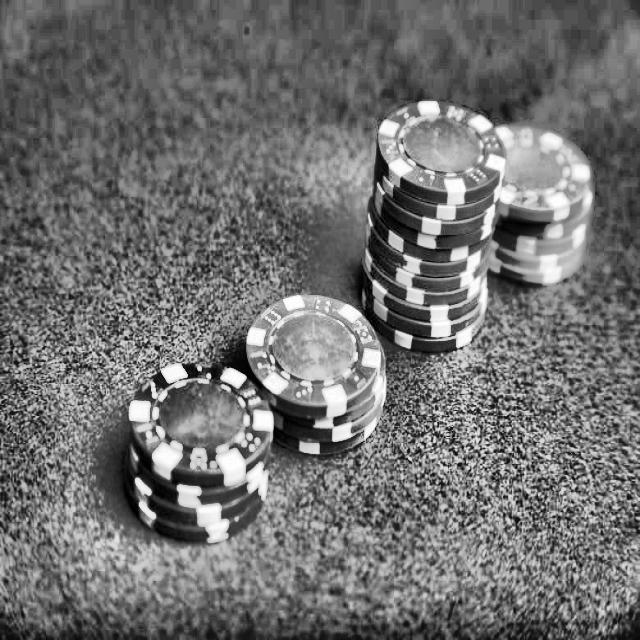Chip: (353, 84, 508, 365), (117, 360, 286, 547), (242, 288, 396, 458), (476, 109, 595, 295)
